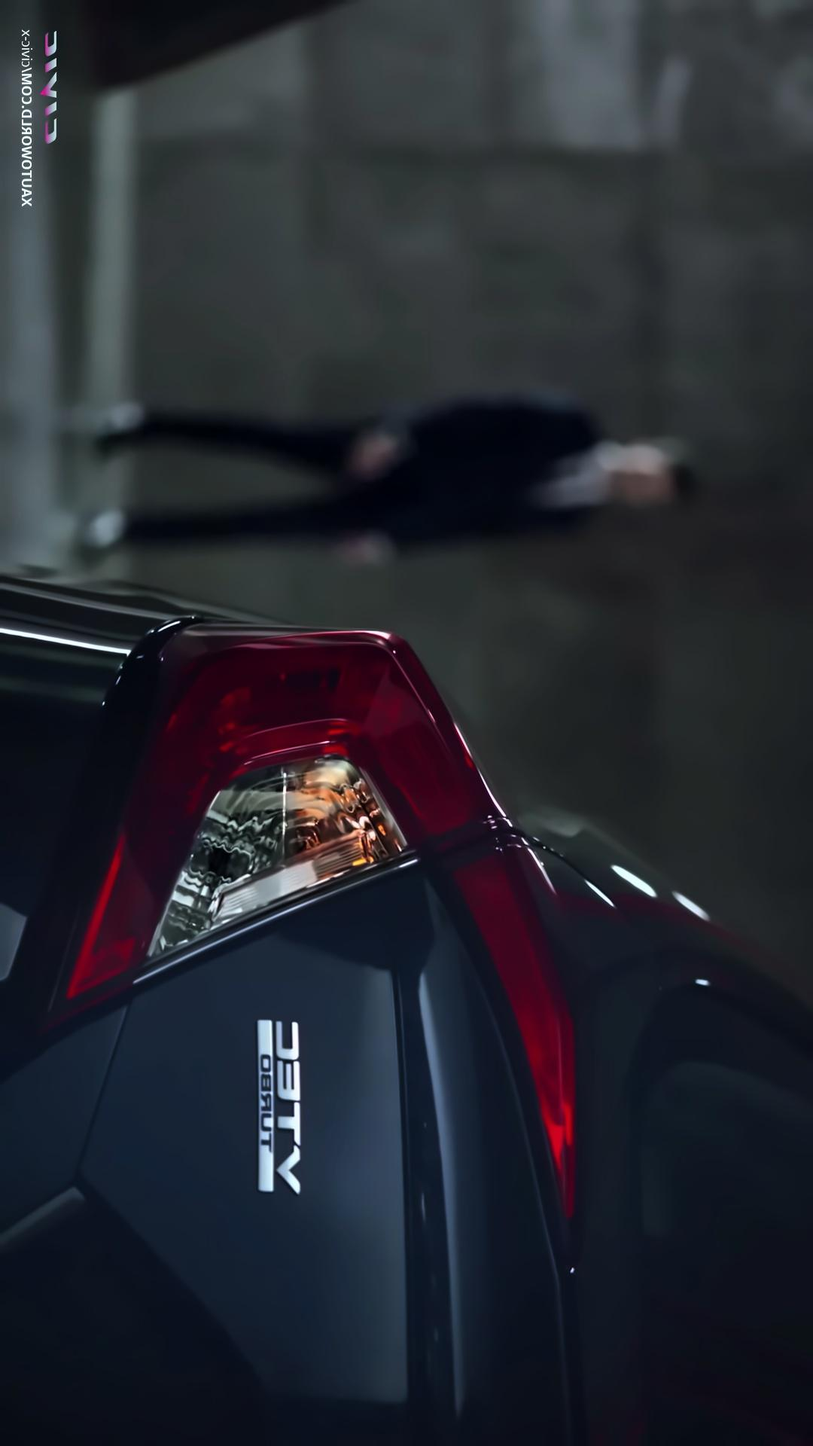Car boot: (53, 856, 813, 1446)
Rear bumper: (0, 545, 212, 1251)
Rear light - -L-: (33, 628, 605, 1224)
